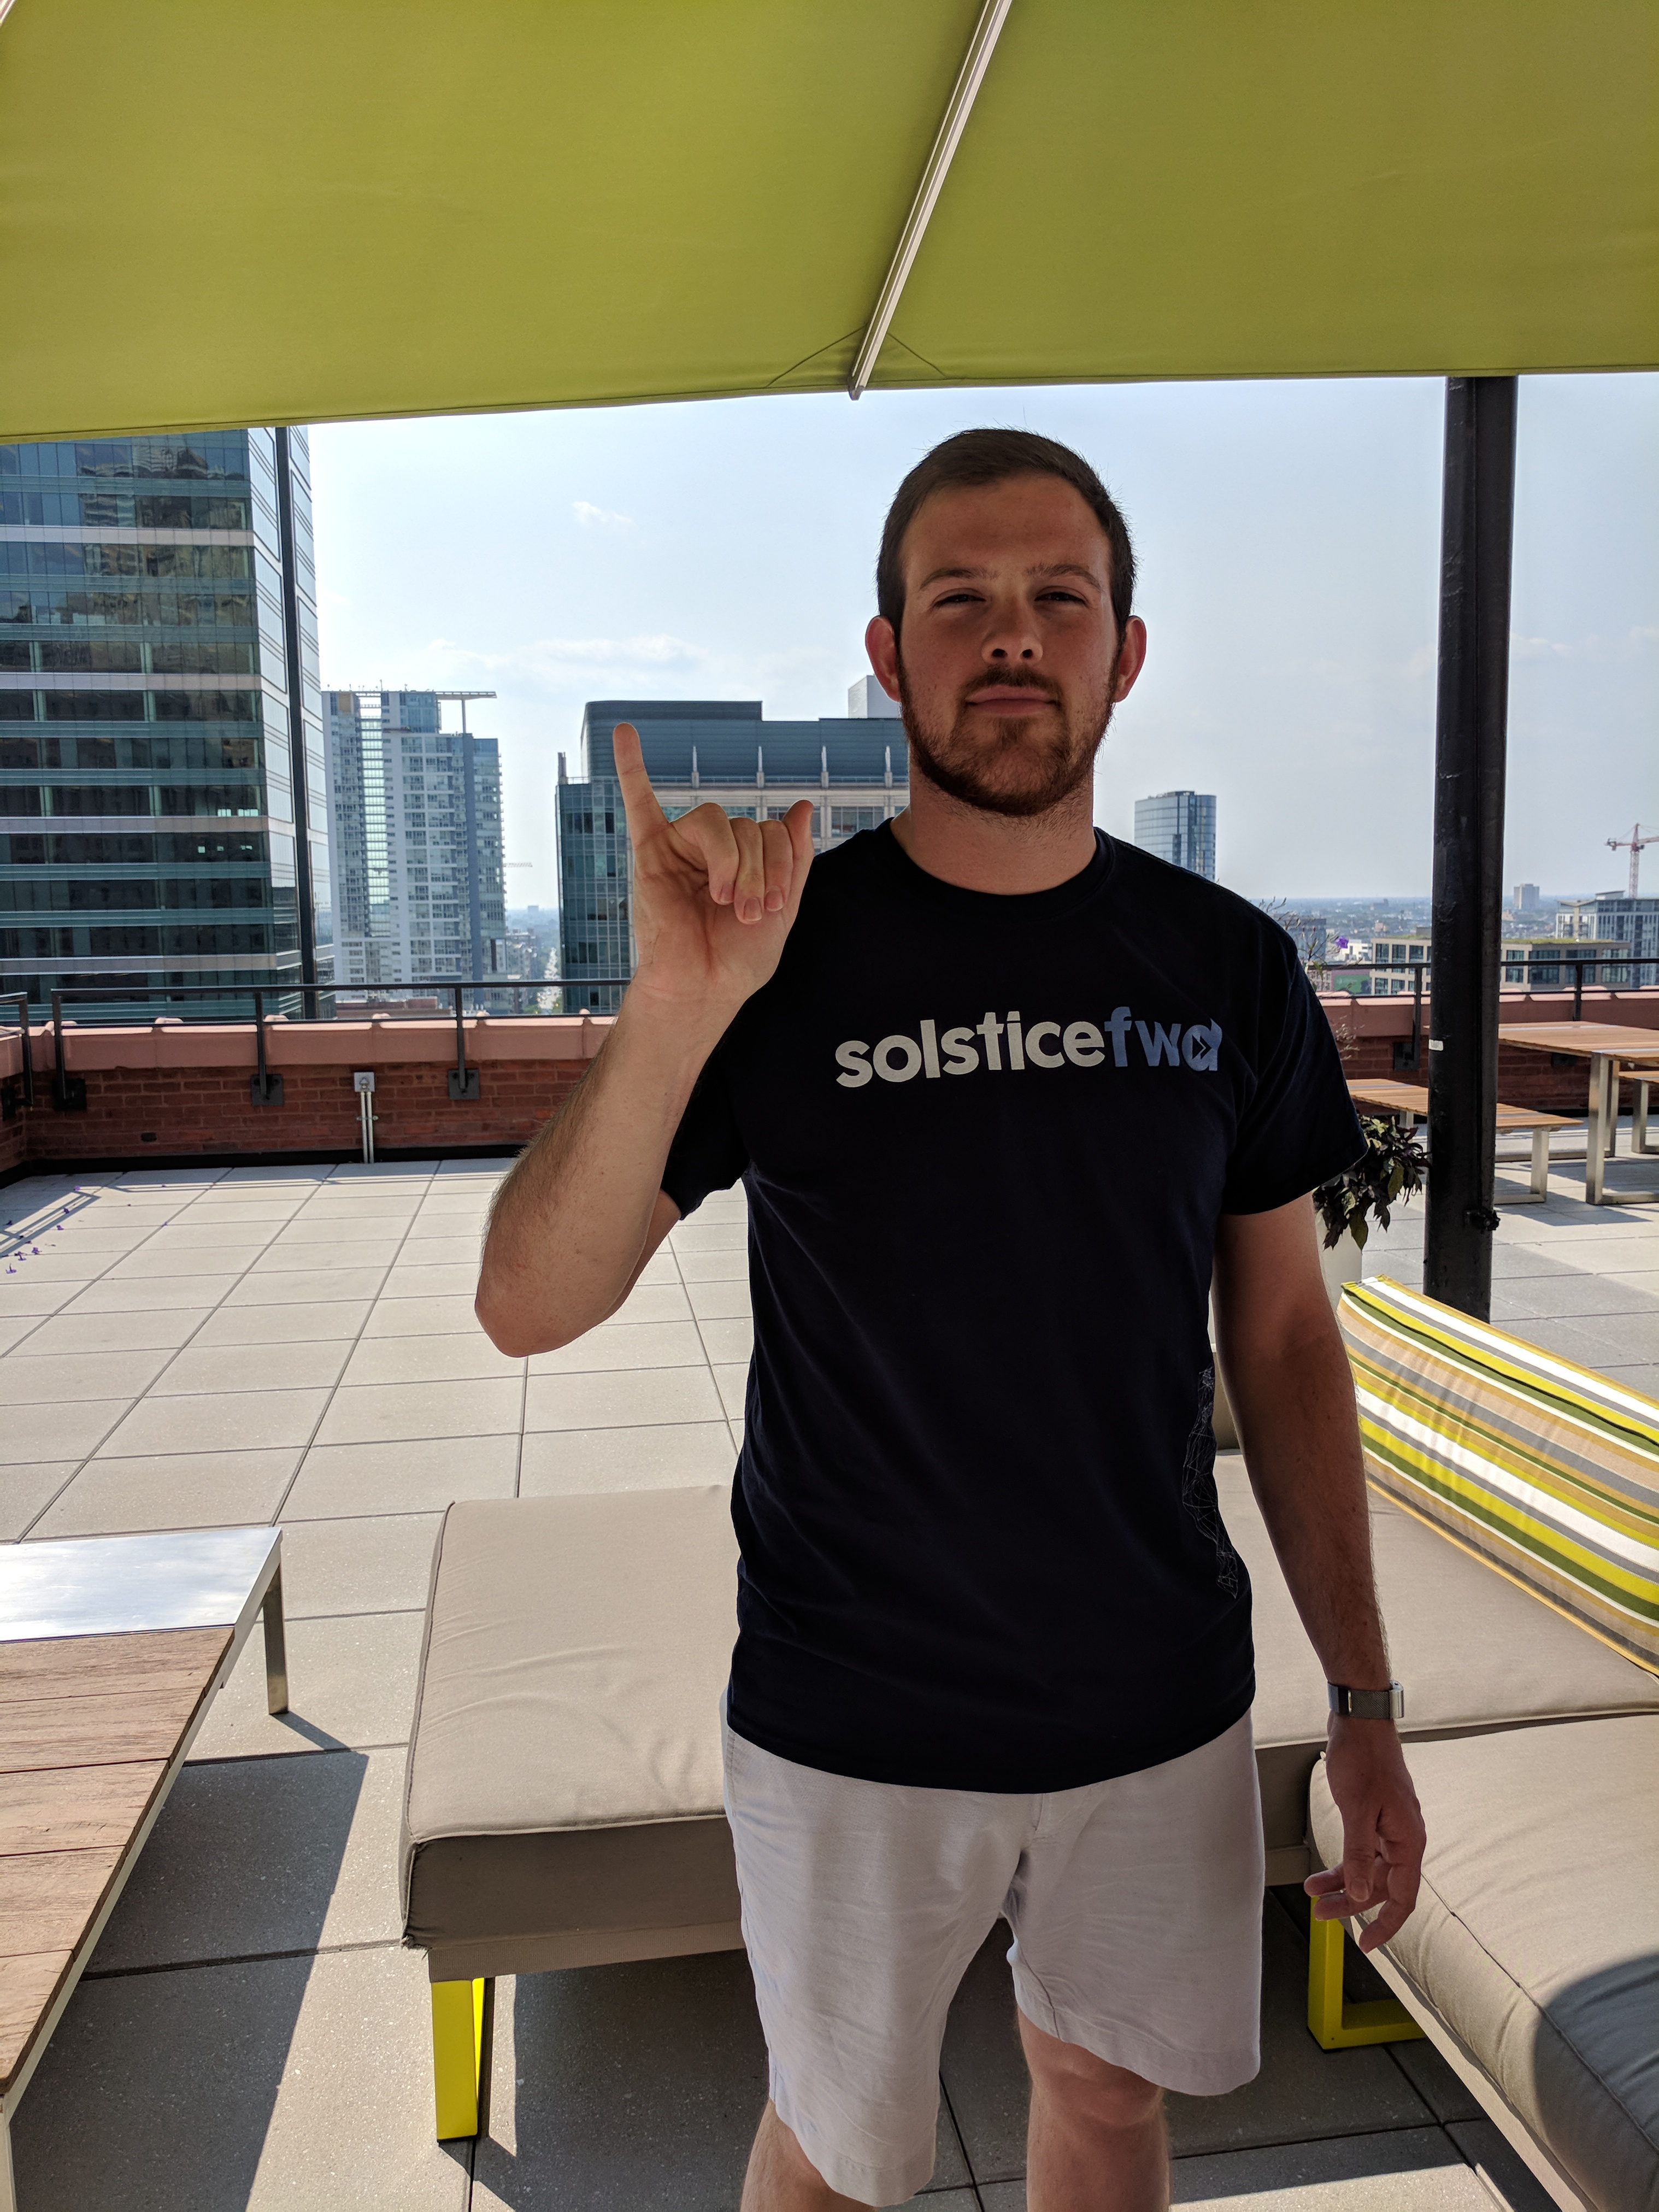i: (603, 718, 828, 1015)
